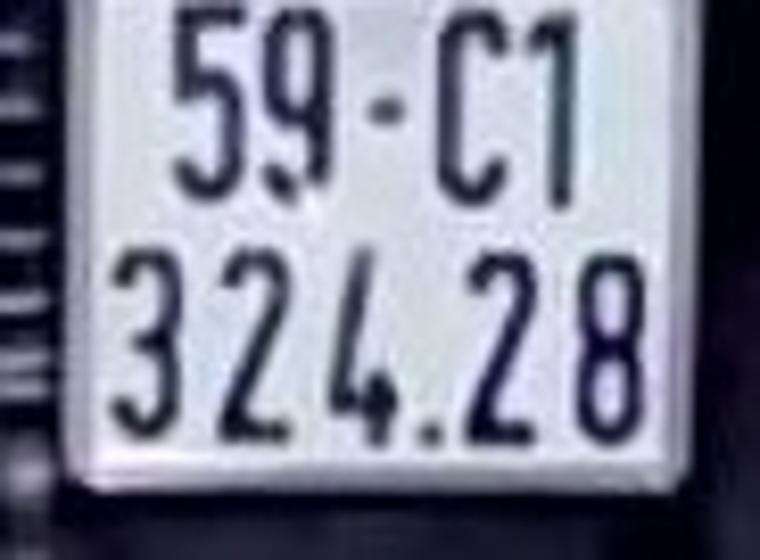-: (362, 99, 401, 123)
.: (420, 426, 440, 447)
1: (526, 15, 577, 207)
2: (467, 247, 536, 439), (215, 245, 284, 435)
3: (110, 249, 177, 436)
4: (325, 246, 396, 450)
5: (171, 6, 243, 195)
8: (575, 251, 644, 442)
9: (265, 7, 332, 206)
C: (434, 10, 508, 204)
